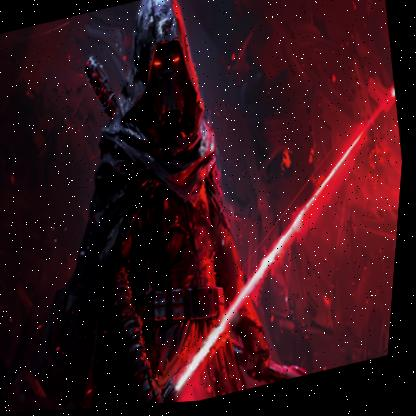sith_lightsaber: (158, 125, 368, 402)
